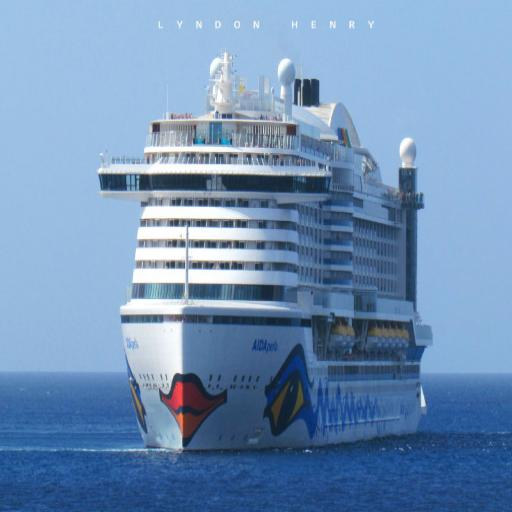cruises: (94, 44, 437, 459)
